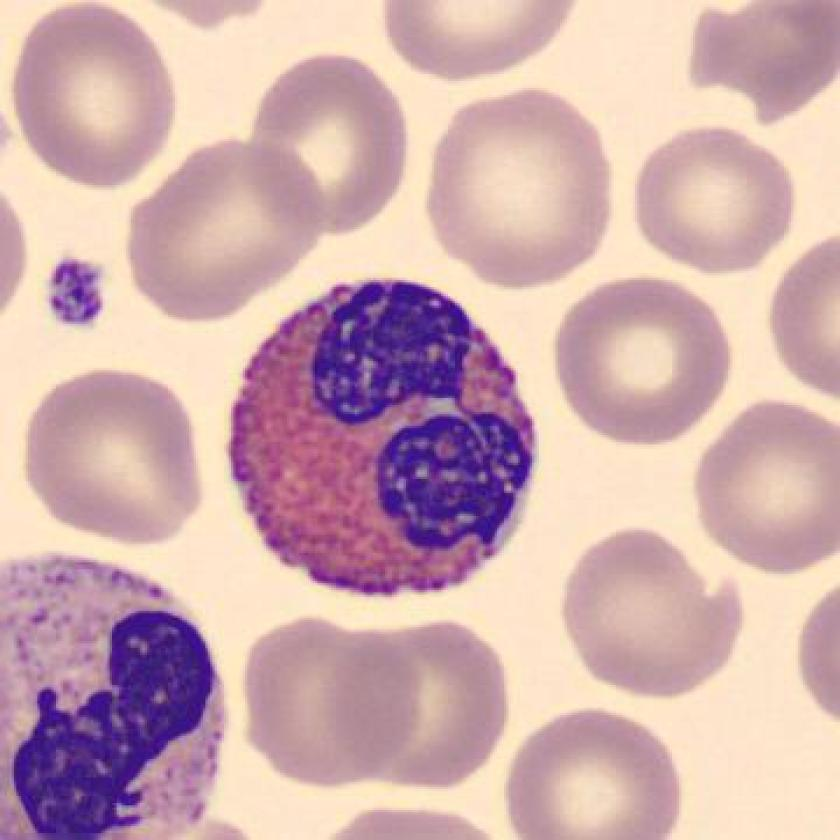eosinophil: (216, 272, 556, 605)
